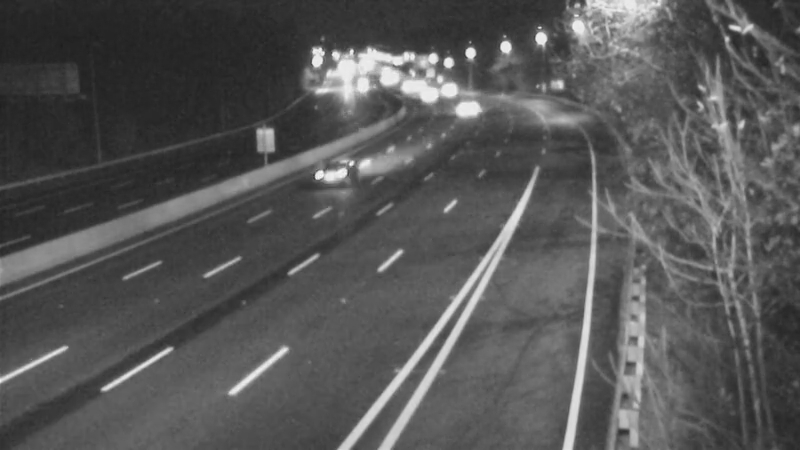vehicle: (288, 129, 368, 209), (429, 66, 479, 116), (402, 73, 452, 123), (448, 83, 498, 133)
